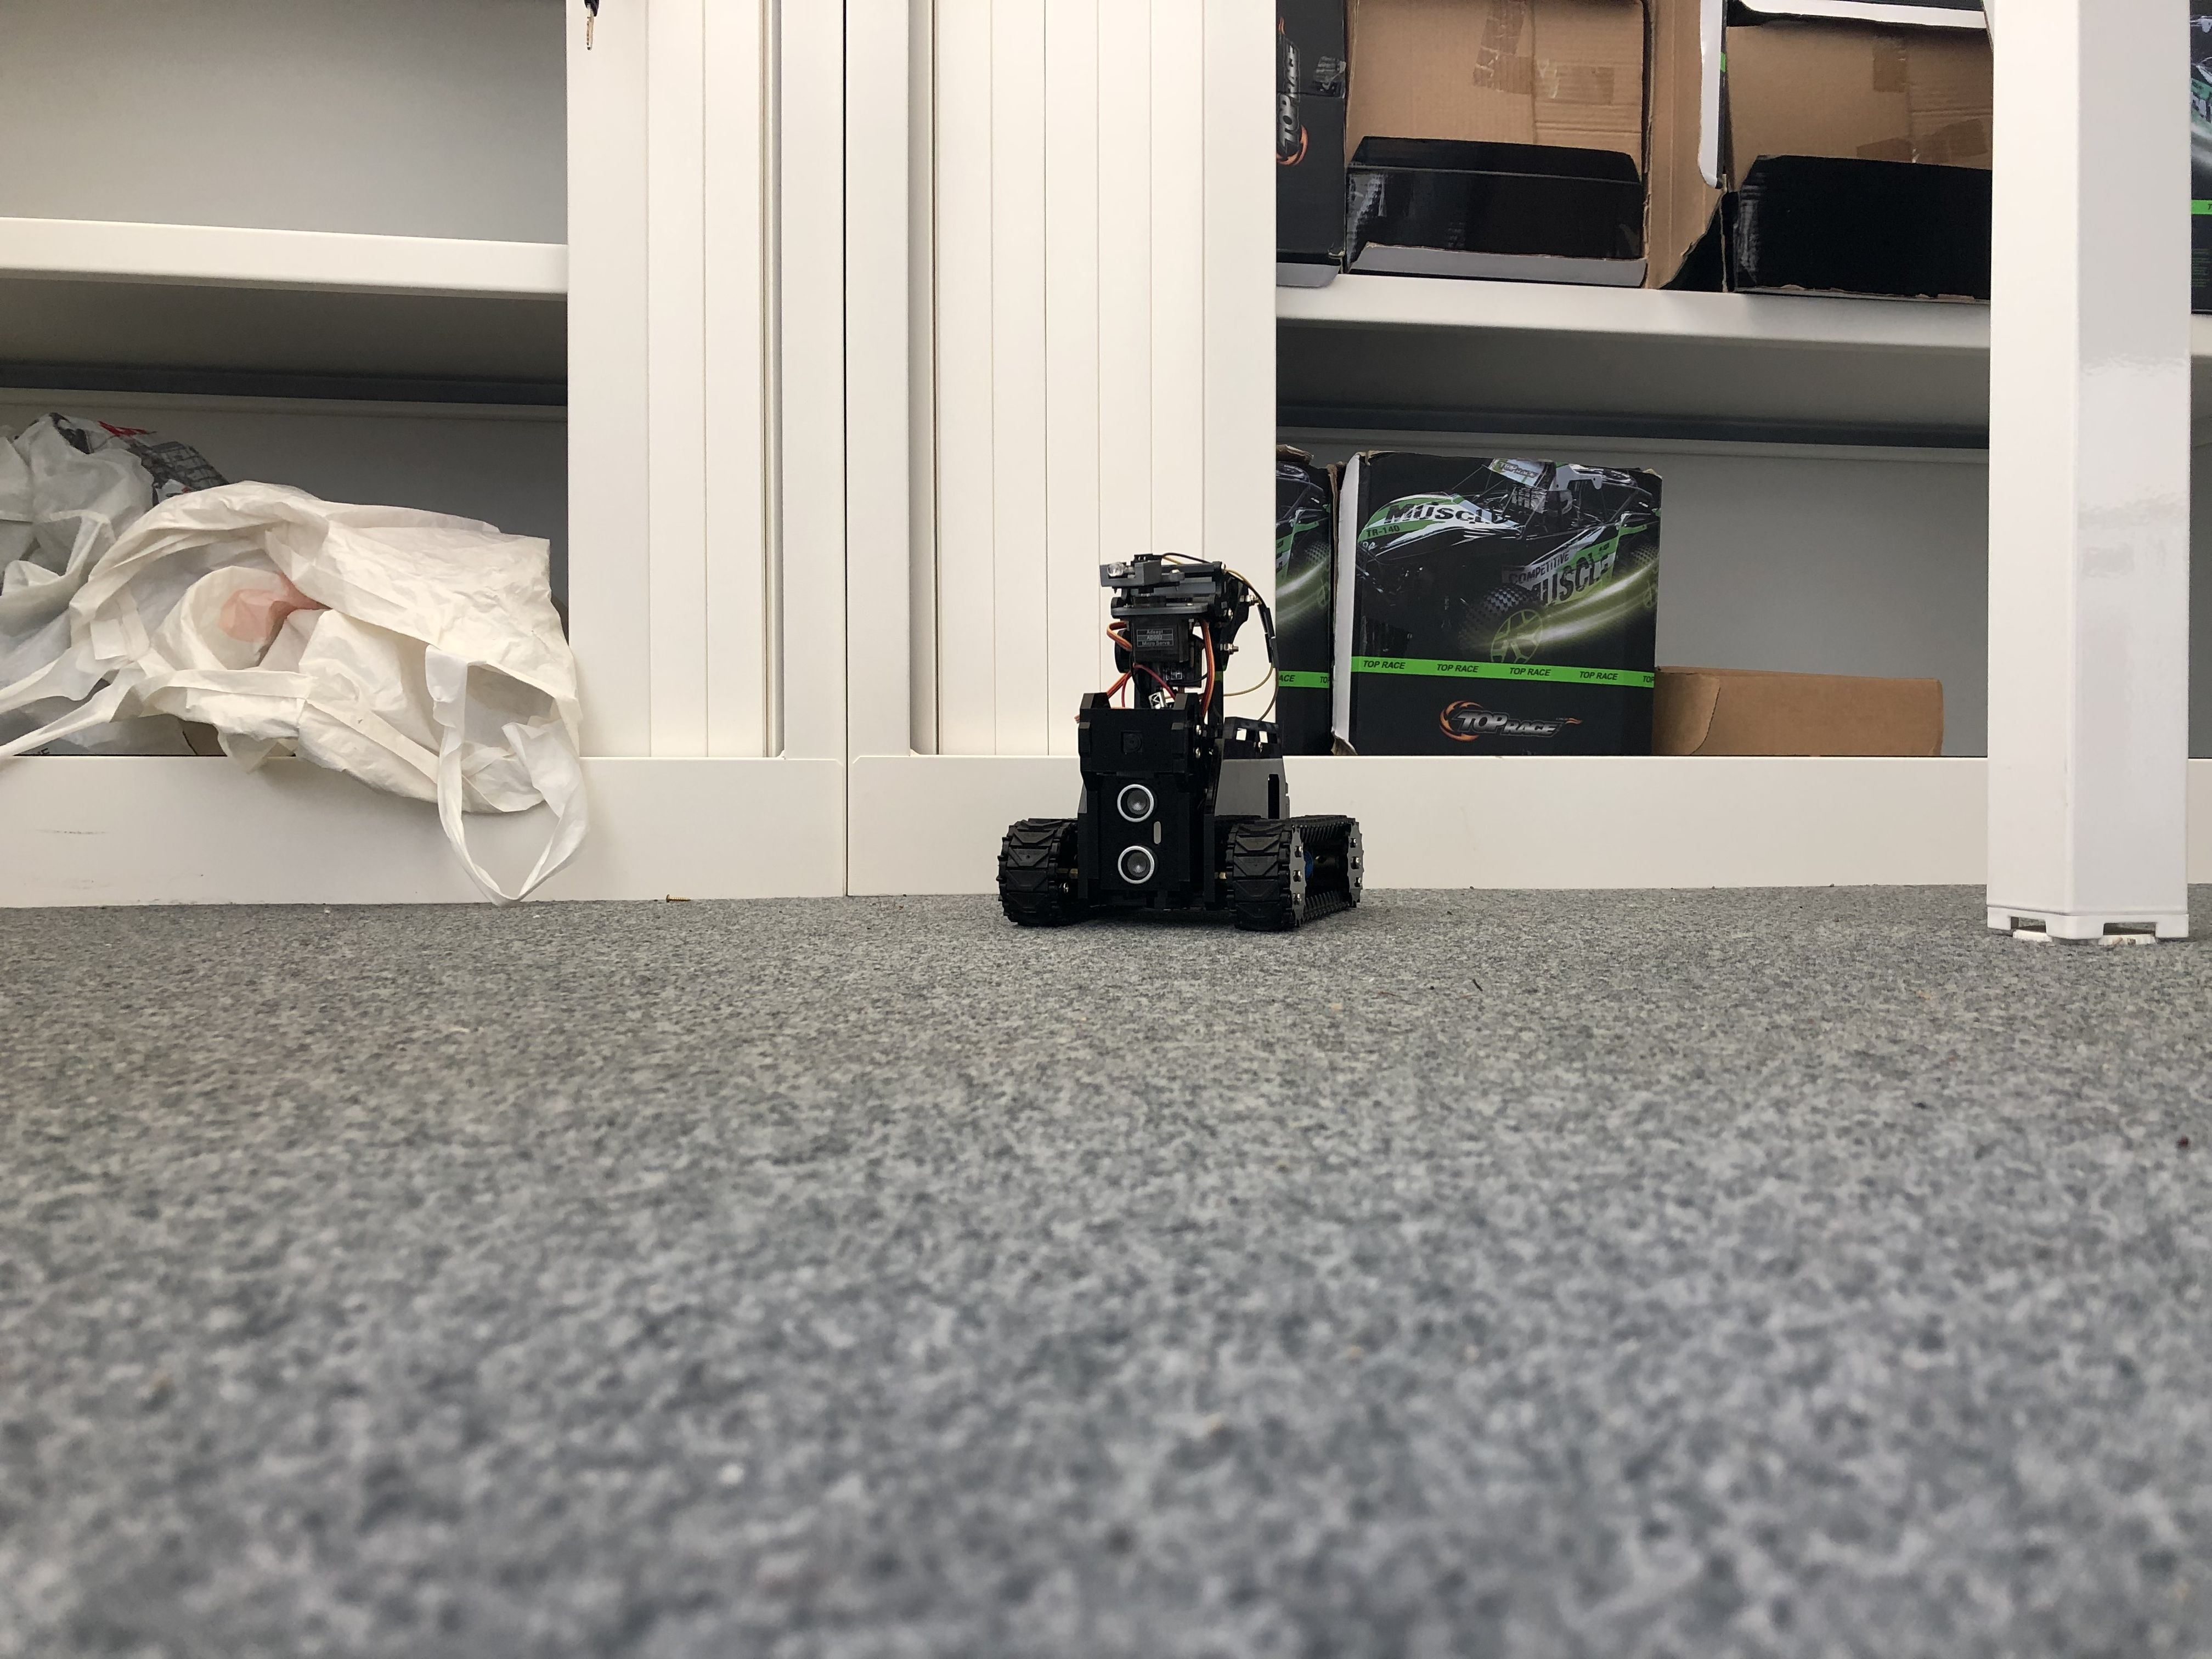rasptank: (993, 547, 1381, 934)
